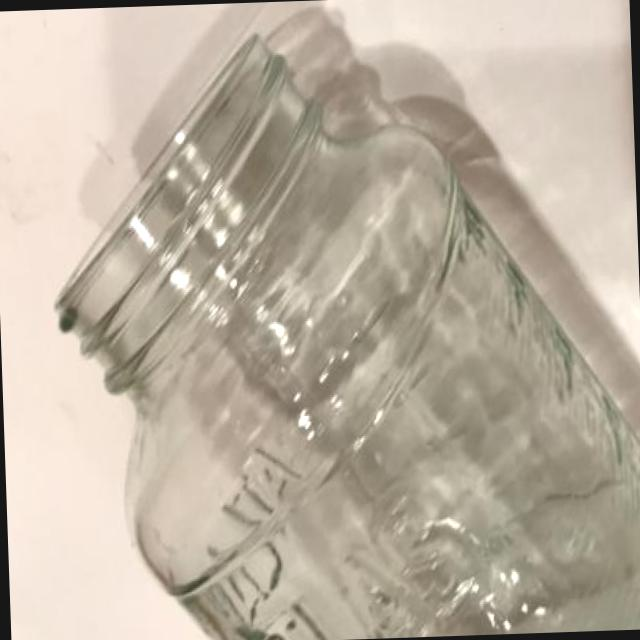chai_thuy_tinh: (57, 35, 640, 640)
